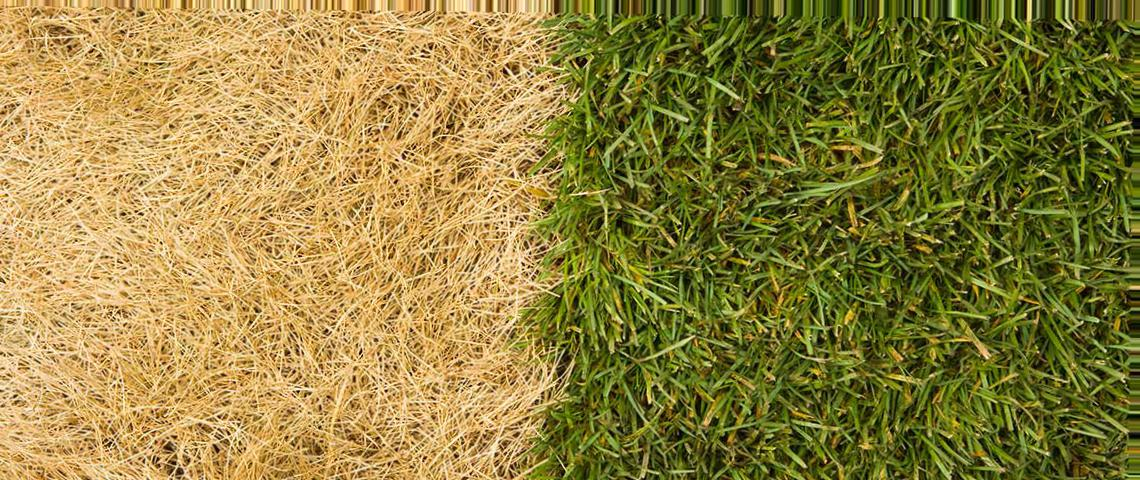patch: (19, 23, 509, 454)
